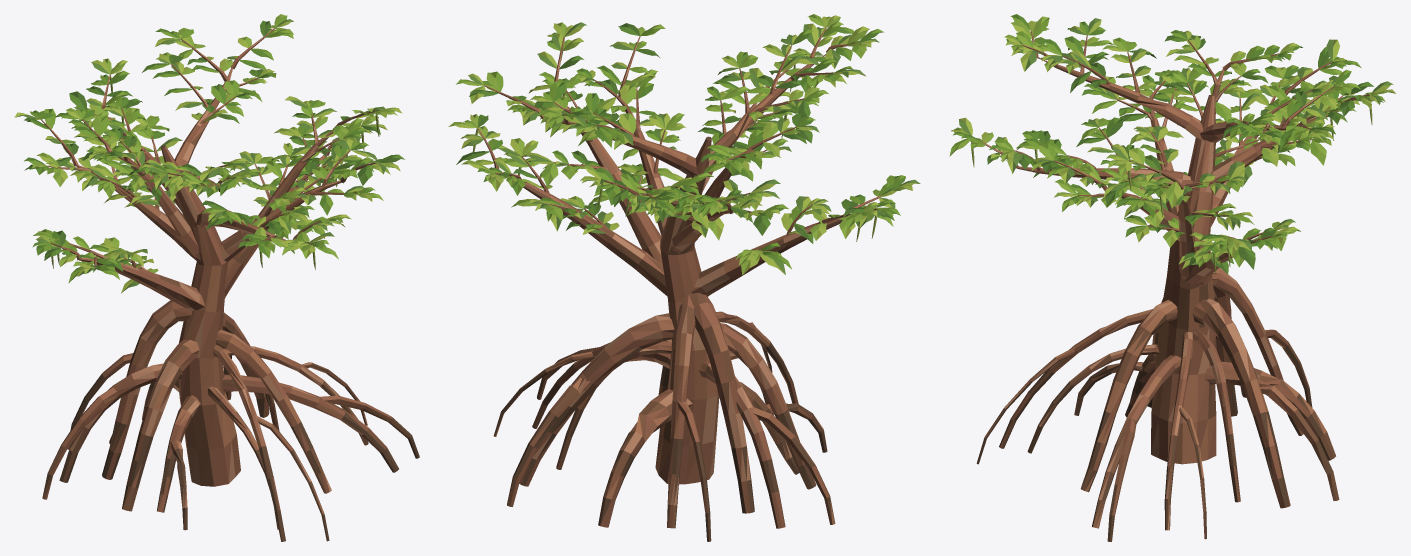
File: mangrove.glb
The picture shows the model from 3 angles, left to right: view 1: azimuth 30°, elevation 25°; view 2: azimuth 150°, elevation 25°; view 3: azimuth 270°, elevation 25°; orthographic projection. The views are drawn at different scales.
Visible parts, largest first — view 1: Trunk branches and stilt roots, Folded broad leaves; view 2: Trunk branches and stilt roots, Folded broad leaves; view 3: Trunk branches and stilt roots, Folded broad leaves.
Boxes of the visible parts, bbox=[...] form: Trunk branches and stilt roots: bbox=[41, 28, 419, 541]; Folded broad leaves: bbox=[14, 14, 404, 293]; Trunk branches and stilt roots: bbox=[477, 27, 882, 541]; Folded broad leaves: bbox=[448, 14, 920, 274]; Trunk branches and stilt roots: bbox=[976, 30, 1369, 541]; Folded broad leaves: bbox=[949, 14, 1396, 274].
Size of the model in its own units: 5.82 by 5.6 by 5.67.
